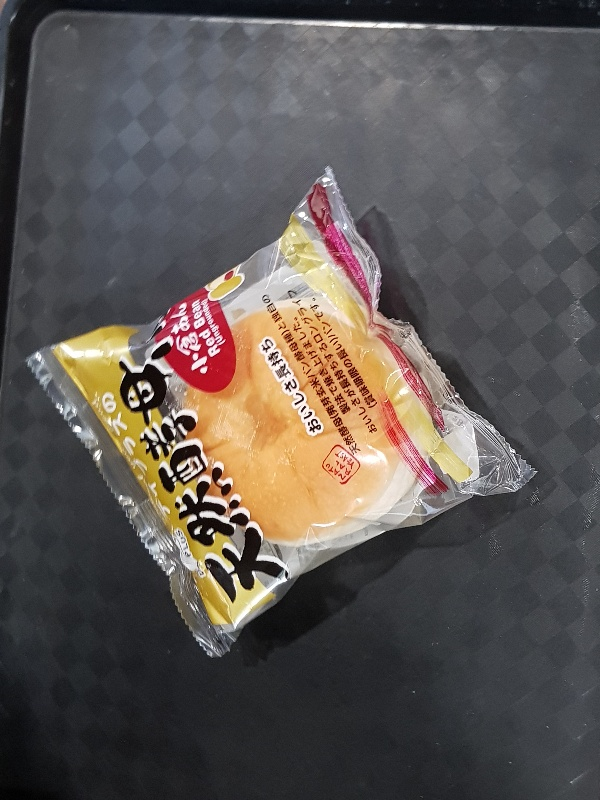Dayplus Red Bean: (24, 167, 541, 658)
